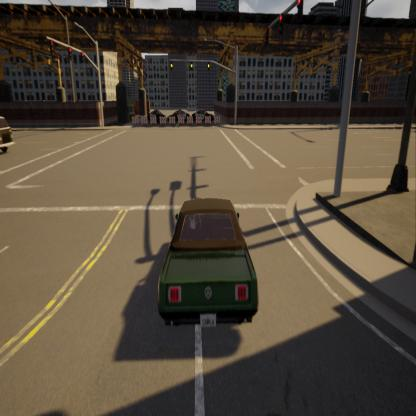Cars: (156, 182, 264, 348), (0, 107, 17, 159), (146, 109, 166, 127), (168, 108, 191, 123), (192, 108, 214, 123)
